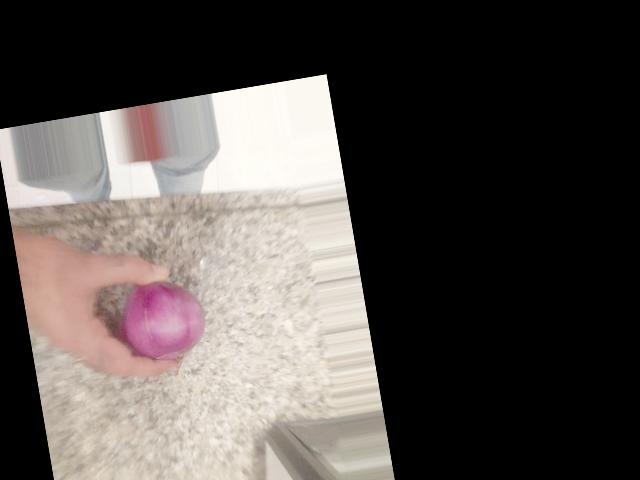onion: (110, 266, 205, 364)
